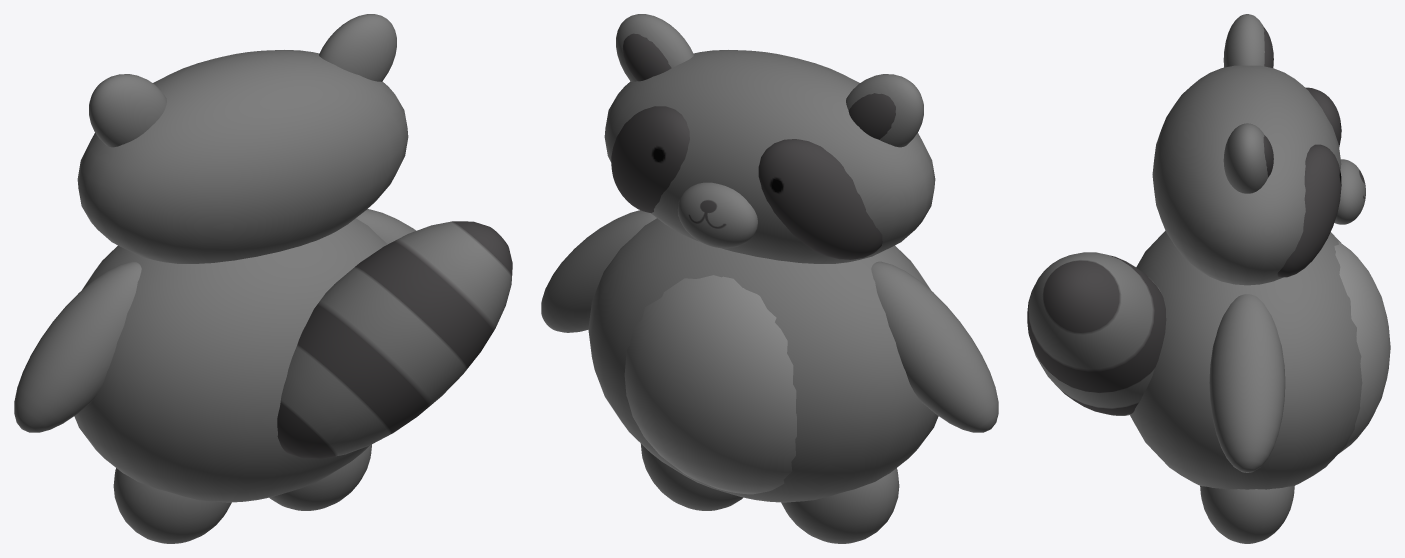
The model's file is raccoon.fbx.
The picture shows the model from 3 angles, left to right: view 1: azimuth 30°, elevation 25°; view 2: azimuth 150°, elevation 25°; view 3: azimuth 270°, elevation 25°; orthographic projection. The views are drawn at different scales.
Parts seen in each view (by area): view 1: raccoon; view 2: raccoon; view 3: raccoon.
Boxes of the visible parts, x1,y1,x2,y2 form: raccoon: (14, 14, 512, 543); raccoon: (541, 14, 998, 543); raccoon: (1027, 14, 1390, 543).
Bounding box in the file's own units: 383 × 507 × 502.
